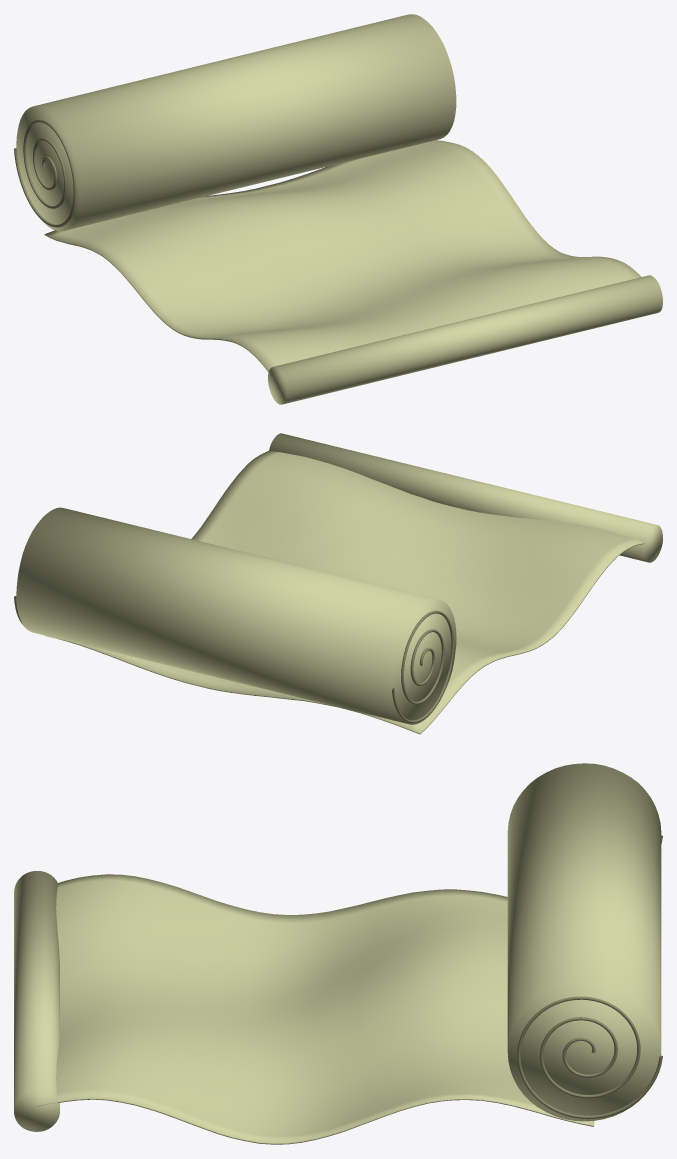
3 renders of one model, top to bottom at view 1: azimuth 30°, elevation 25°; view 2: azimuth 150°, elevation 25°; view 3: azimuth 270°, elevation 25°, orthographic. The views are drawn at different scales.
Visible parts, largest first — view 1: TI014 / editable draped woven sheet, TI014 / rolled cloth body, TI014 / partially rolled lower edge, TI014 / visible spiral selvage; view 2: TI014 / rolled cloth body, TI014 / editable draped woven sheet, TI014 / partially rolled lower edge, TI014 / visible spiral selvage; view 3: TI014 / editable draped woven sheet, TI014 / rolled cloth body, TI014 / partially rolled lower edge, TI014 / visible spiral selvage.001.
Part boxes in pixels (box(x1,y1,x2,y2)): TI014 / editable draped woven sheet: box(44, 140, 641, 372); TI014 / rolled cloth body: box(16, 14, 456, 231); TI014 / partially rolled lower edge: box(268, 275, 662, 404); TI014 / visible spiral selvage: box(14, 119, 76, 227); TI014 / rolled cloth body: box(16, 507, 456, 724); TI014 / editable draped woven sheet: box(45, 451, 652, 734); TI014 / partially rolled lower edge: box(269, 433, 662, 562); TI014 / visible spiral selvage: box(391, 610, 454, 723); TI014 / editable draped woven sheet: box(37, 874, 594, 1144); TI014 / rolled cloth body: box(507, 763, 661, 1121); TI014 / partially rolled lower edge: box(14, 871, 59, 1131); TI014 / visible spiral selvage.001: box(517, 996, 662, 1118).
Size of the model in its own units: 2.73 by 0.9317 by 3.38.
